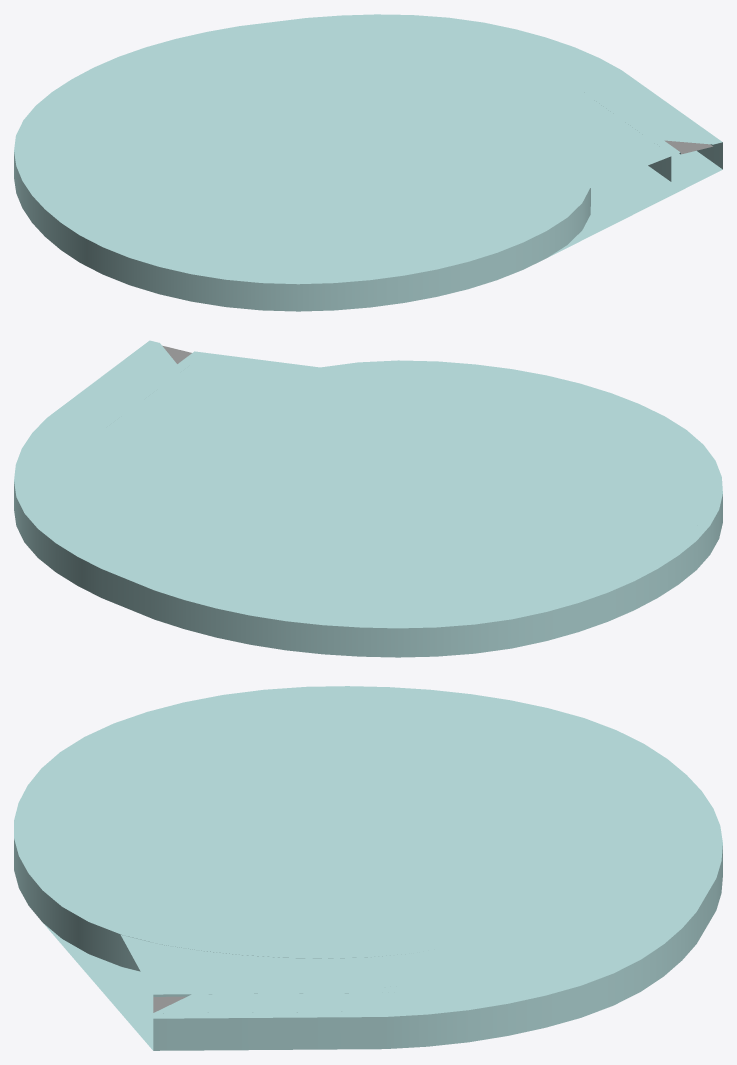
File: spiral3.fbx
3 renders of one model, top to bottom at view 1: azimuth 30°, elevation 25°; view 2: azimuth 150°, elevation 25°; view 3: azimuth 270°, elevation 25°, orthographic. The views are drawn at different scales.
Visible parts, largest first — view 1: spiral3; view 2: spiral3; view 3: spiral3.
Part boxes in pixels (x1,y1,x2,y2): spiral3: (14, 14, 722, 311); spiral3: (14, 340, 722, 657); spiral3: (14, 686, 722, 1050).
Bounding box in the file's own units: 2277 × 104 × 2053.
